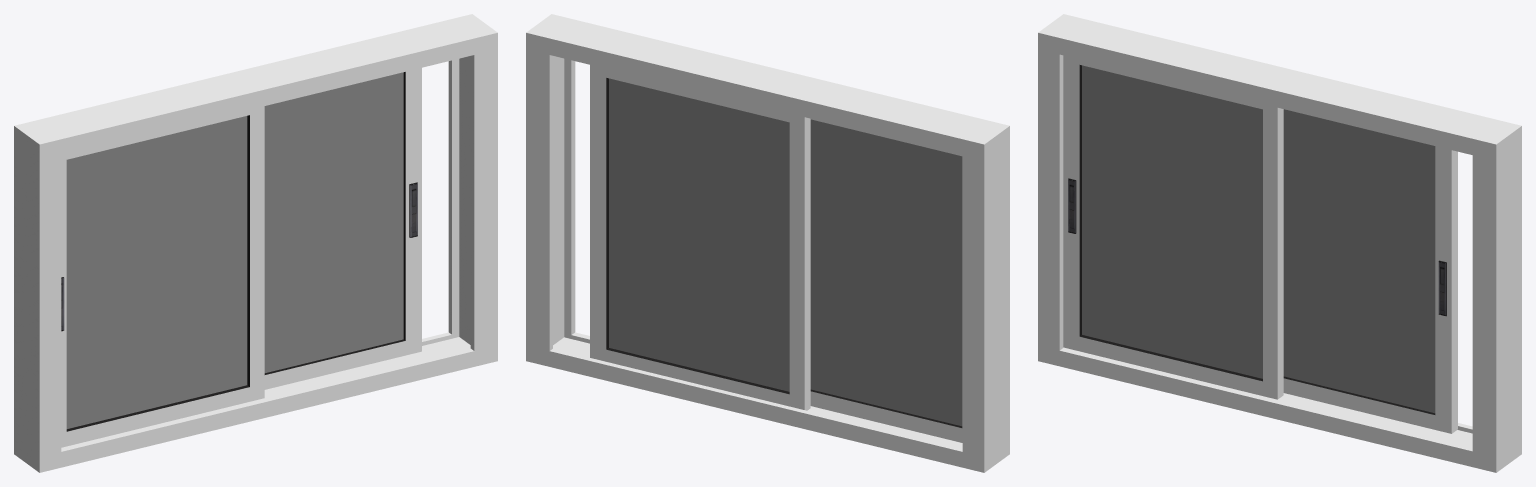
The model's file is Window.FBX.
3 views of the same model, side by side, from view 1: azimuth 30°, elevation 25°; view 2: azimuth 150°, elevation 25°; view 3: azimuth 330°, elevation 25° (orthographic).
Parts seen in each view (by area): view 1: window frame, window A, window B; view 2: window B, window frame, window A; view 3: window A, window frame, window B.
Boxes of the visible parts, x1,y1,x2,y2 form: window frame: (14,14,497,472); window A: (61,106,264,447); window B: (264,68,421,389); window B: (590,65,810,410); window frame: (526,14,1009,472); window A: (810,119,962,442); window A: (1063,55,1283,399); window frame: (1038,14,1521,472); window B: (1283,109,1457,433).
Bounding box in the file's own units: 175 × 120 × 16.92.
Materials: 2 (1 with a texture image).
